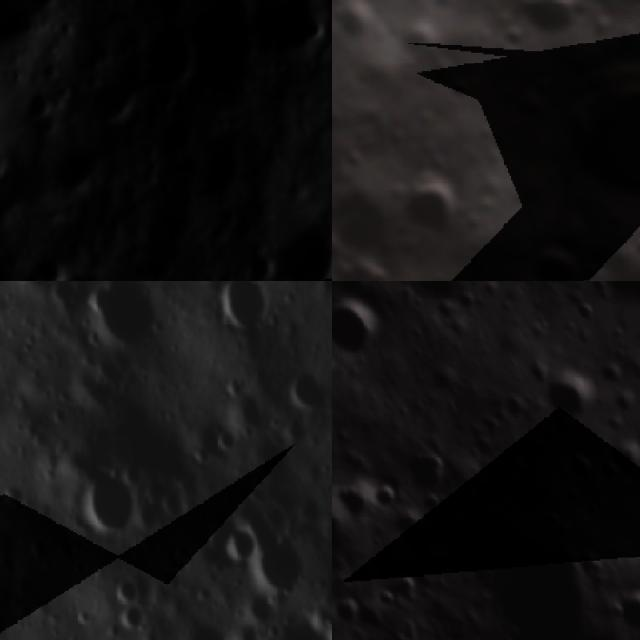crater: (534, 14, 640, 232), (173, 0, 273, 113), (390, 158, 483, 251), (332, 167, 413, 268), (77, 281, 162, 361), (70, 463, 140, 540), (530, 354, 602, 427), (132, 16, 198, 90), (513, 223, 596, 281), (254, 0, 332, 61), (509, 0, 595, 55), (332, 281, 394, 355), (192, 135, 252, 211), (279, 216, 332, 281), (281, 355, 332, 421), (332, 0, 393, 52), (214, 281, 271, 336), (86, 72, 144, 126), (395, 14, 450, 70), (0, 0, 43, 62), (168, 609, 244, 640), (438, 64, 487, 112), (333, 245, 398, 281), (233, 618, 332, 640), (216, 523, 264, 568), (371, 470, 416, 517), (55, 149, 98, 198), (332, 584, 375, 629), (492, 16, 535, 59), (236, 238, 276, 281), (560, 443, 602, 483), (615, 575, 640, 636), (525, 64, 563, 104), (29, 243, 65, 281), (24, 85, 60, 122), (110, 566, 143, 605), (50, 265, 130, 281), (375, 576, 409, 611), (122, 604, 153, 640), (426, 0, 466, 18), (627, 226, 640, 265), (28, 0, 63, 10)
